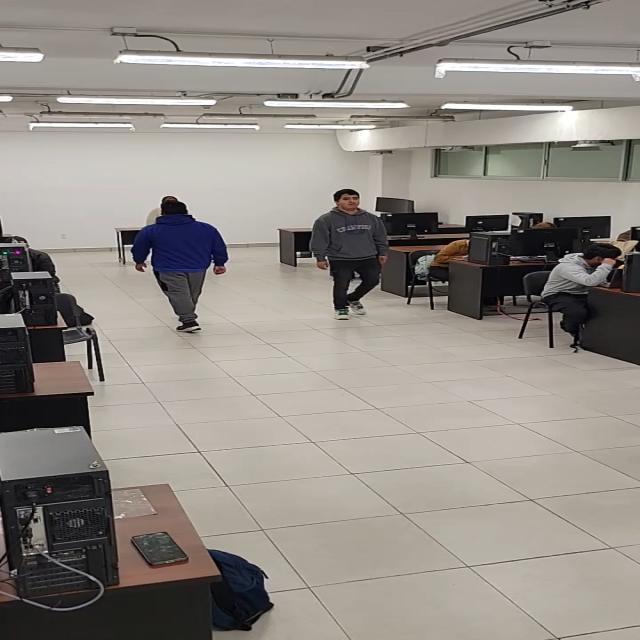Persona: (146, 200, 227, 330), (316, 189, 386, 319)
